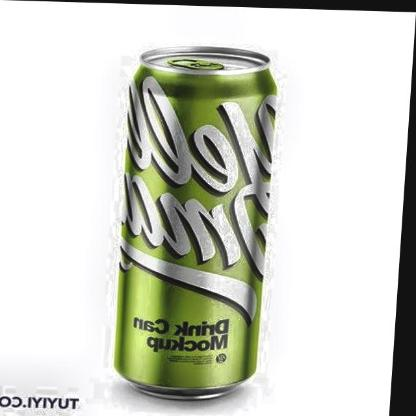Can: (108, 38, 286, 402)
